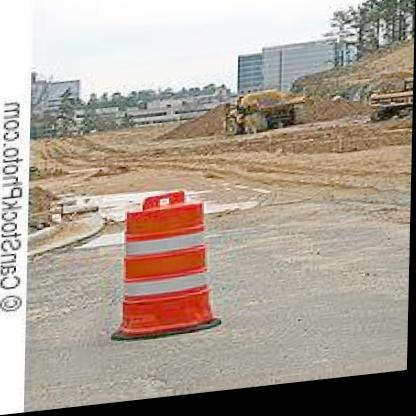obstacle: (111, 190, 230, 343)
